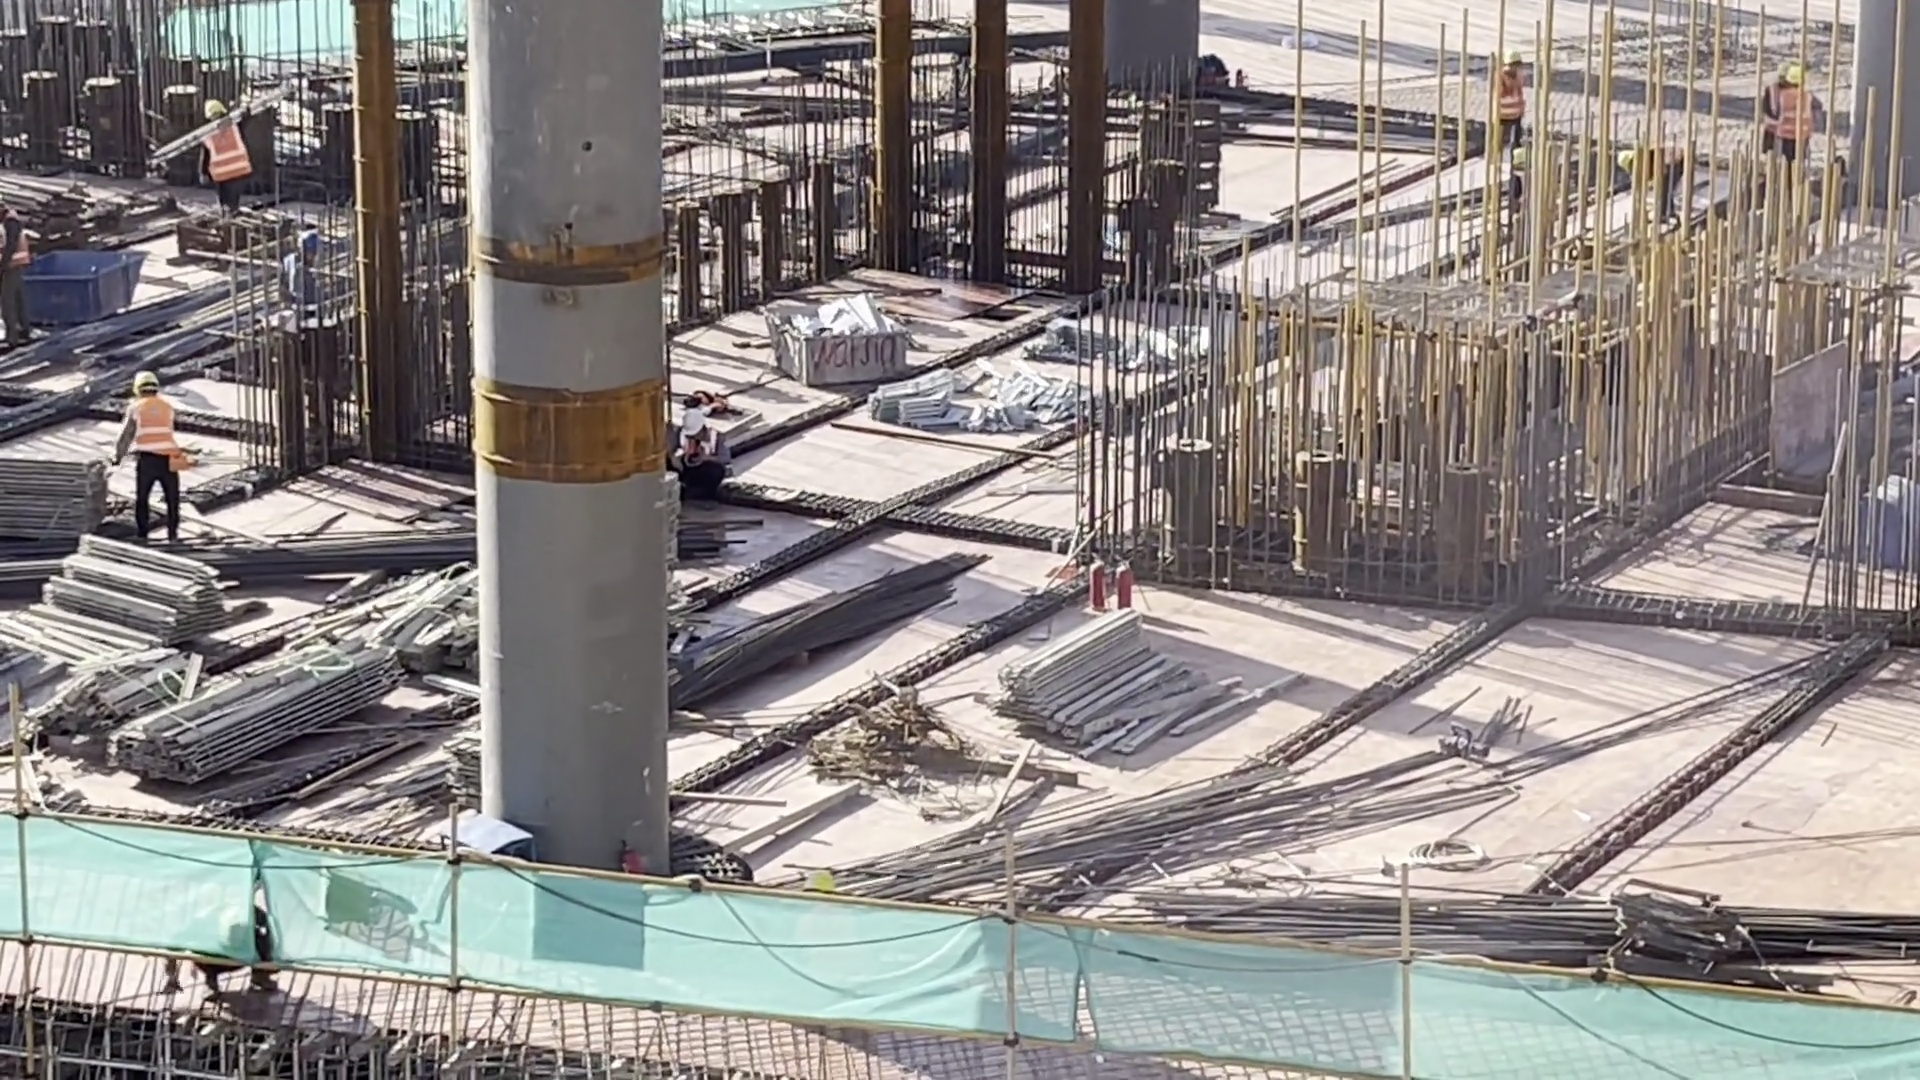helmet: (677, 391, 707, 445), (121, 365, 159, 394), (203, 94, 225, 123), (1792, 74, 1811, 91)
hopper: (763, 285, 925, 393), (1, 236, 154, 339)
person: (99, 368, 196, 542), (1758, 48, 1847, 186), (192, 86, 264, 245), (1478, 48, 1543, 178), (666, 387, 728, 495)
vest: (108, 390, 177, 480), (200, 113, 258, 178), (1780, 86, 1810, 142), (1497, 71, 1526, 116)
wood: (111, 628, 396, 794), (1003, 599, 1177, 752), (47, 530, 233, 656), (1, 445, 119, 561)
